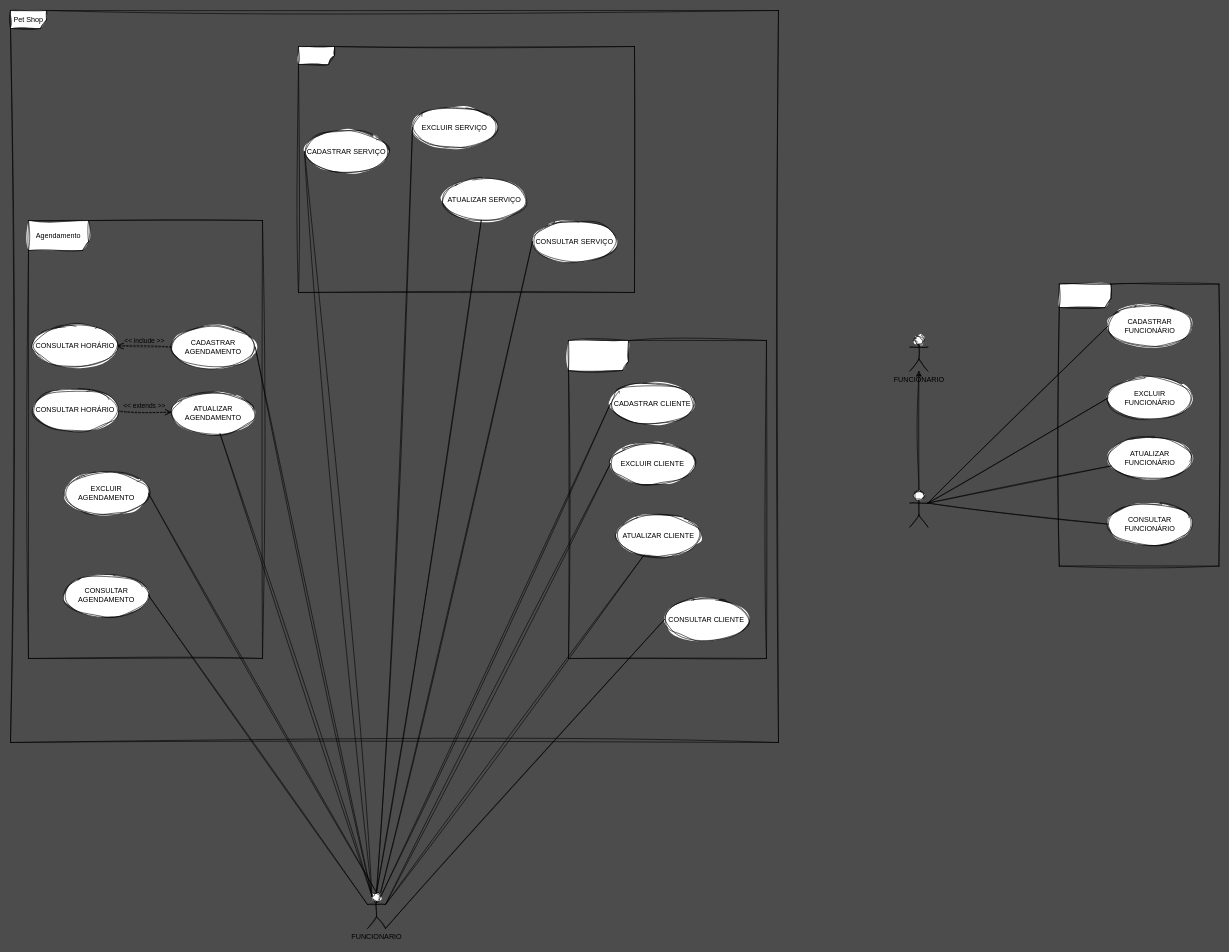
This 1229x952 diagram has some shape labels left out. The centre of each missing label's shape, as x and y in pixels:
"ADMIN" goes at pixel 918 508.
"Cliente" goes at pixel 667 499.
"Funcionário" goes at pixel 1139 425.
"Serviço" goes at pixel 466 169.
